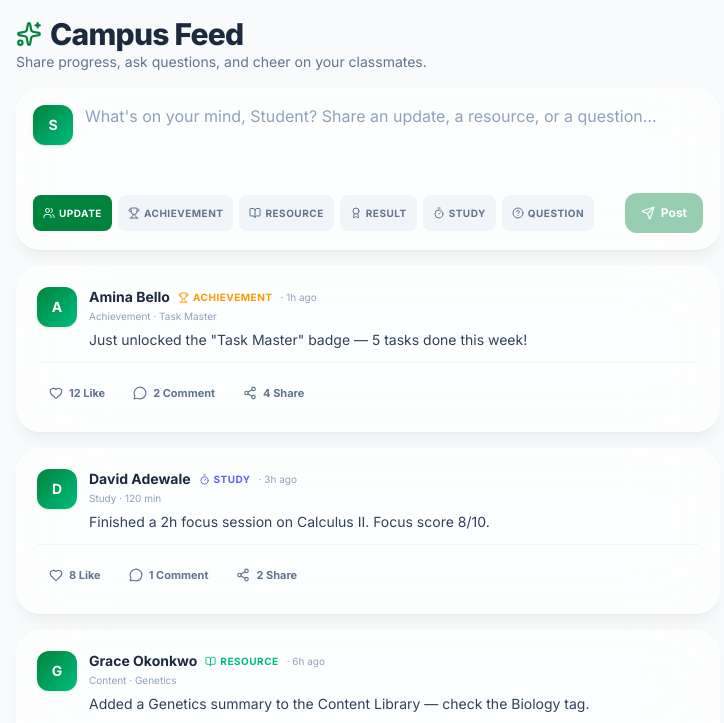
Test: Pages render real content (not empty states) › Campus Feed renders posts and allows posting
Expected: the heading "Campus Feed" is shown, [16,16,244,52]
Expected: the text "Amina Bello" is shown, [89,287,170,307]
Replace the text in the text box with placeholder "What's on your mind" with "My first campus post". click: (394, 143)
box: [85,105,703,181]
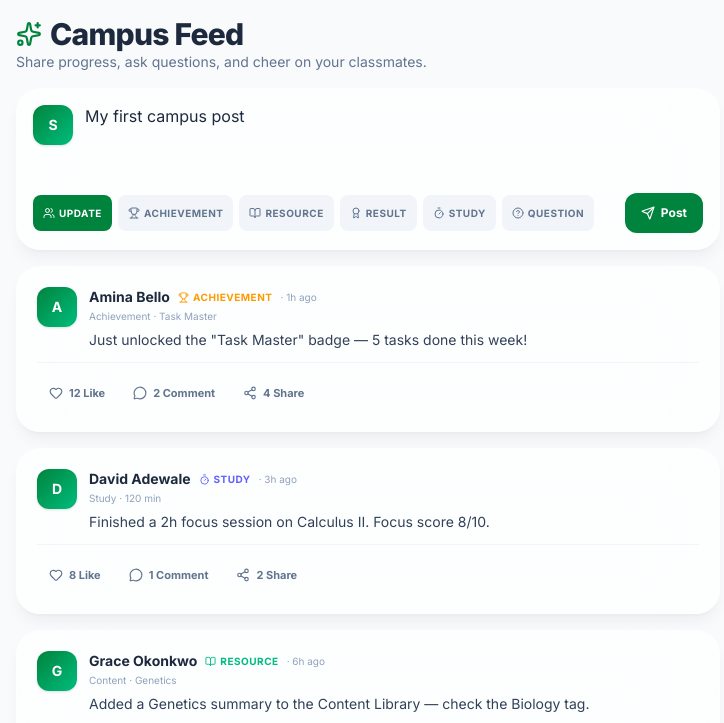
Click the button "Post". click: (664, 213)
box: [625,193,703,233]
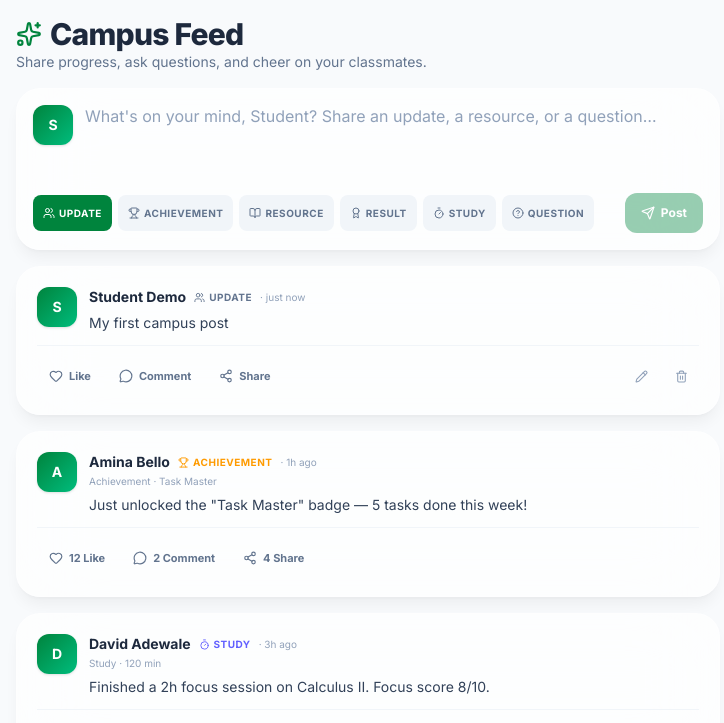
Now the text "My first campus post" is shown, box [89,314,229,331]
